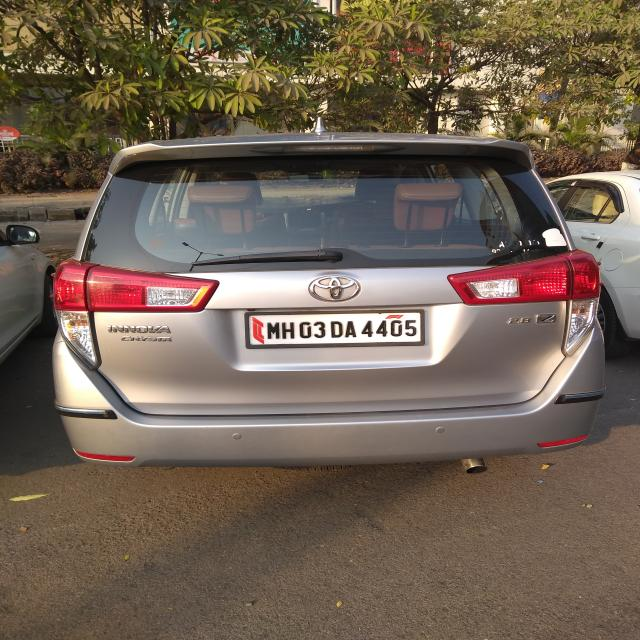Number-Plate: (249, 312, 424, 348)
